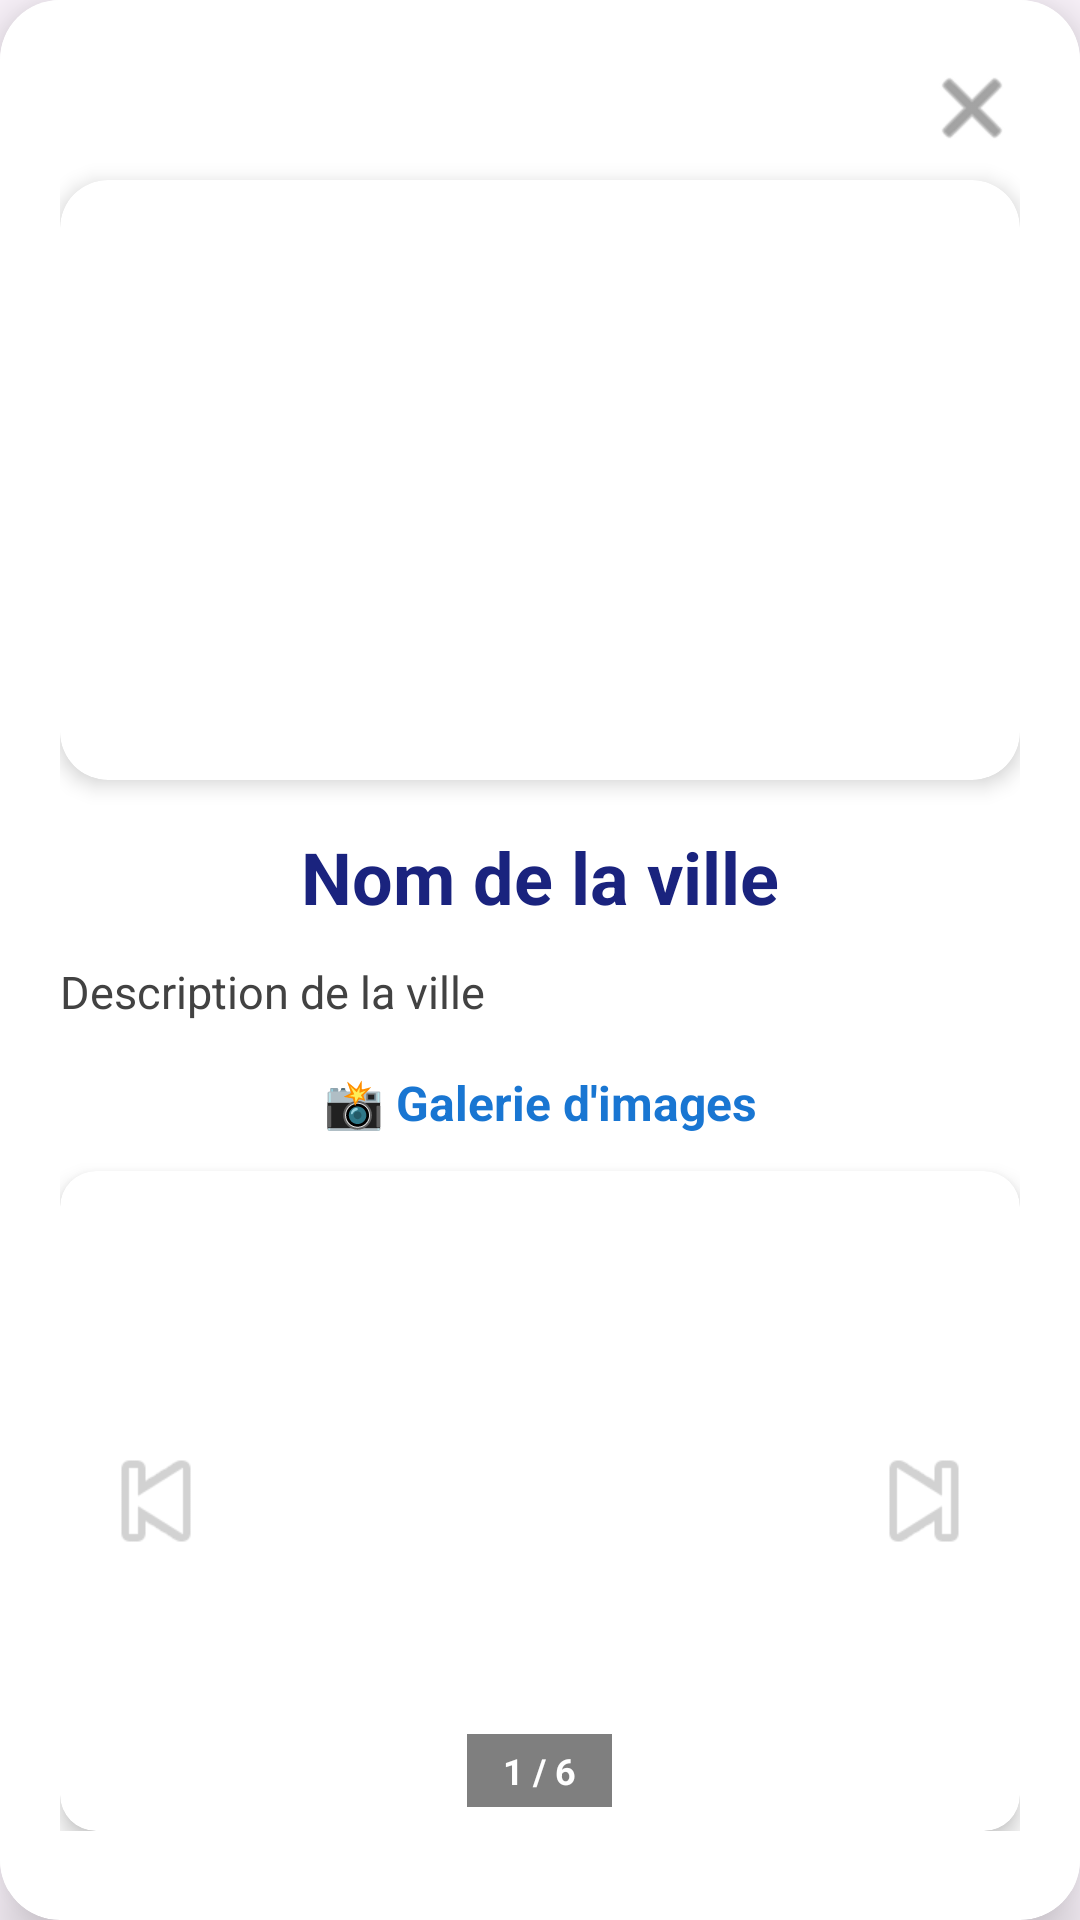

Icons on this 1080 x 1920 Android screen, each with its box as (x1, y1, x2, y2):
Fermer: (942, 78, 1002, 138)
Image précédente: (122, 1461, 190, 1541)
Image suivante: (890, 1461, 958, 1541)
